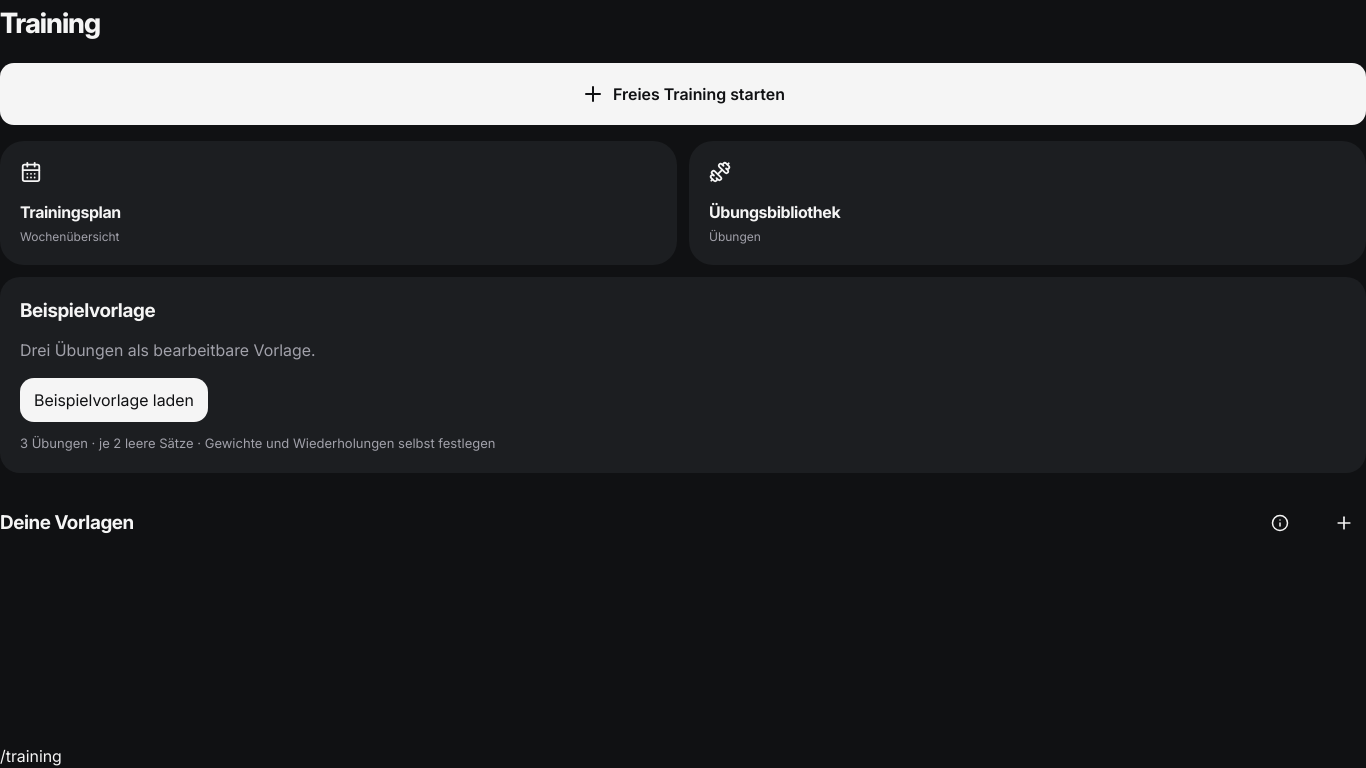
Test case: creates a new template using the section plus button
Click the button named "Vorlage erstellen": (1344, 523) [1322,501,1365,545]
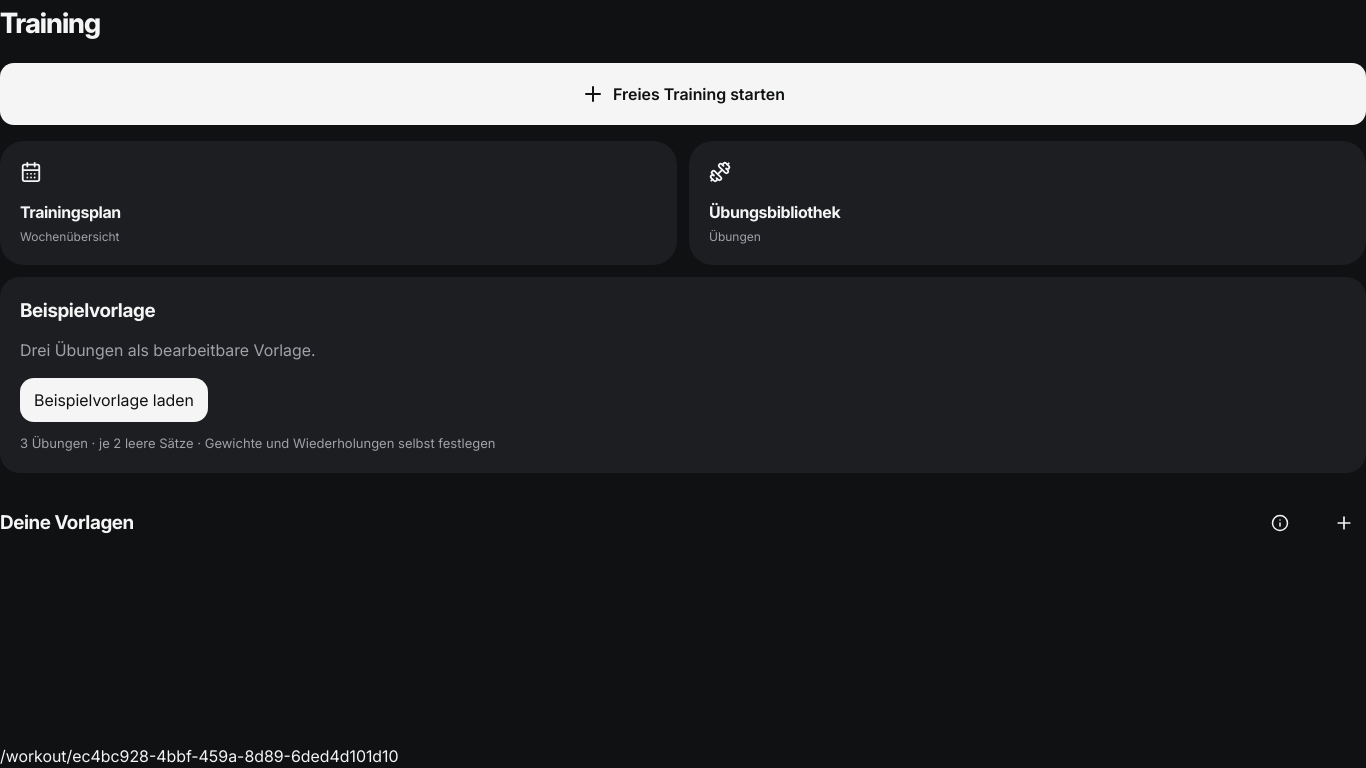
Expected: the text named "Route" shows "/workout/", [0,746,399,766]
